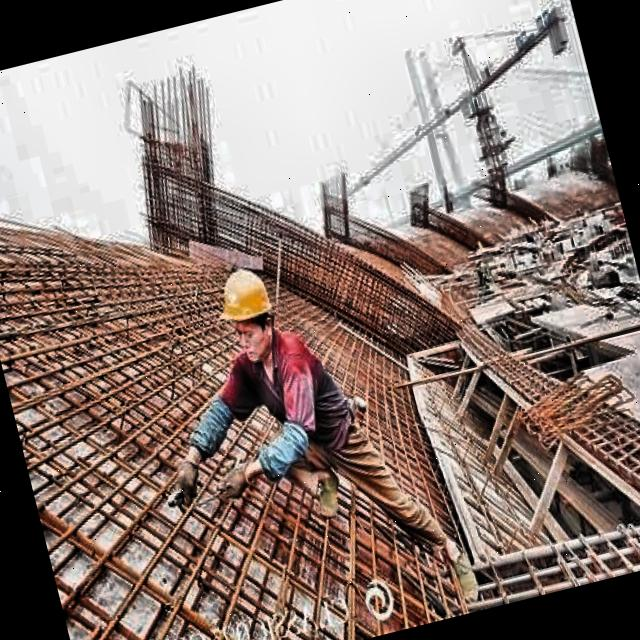helmet: (205, 256, 290, 368)
